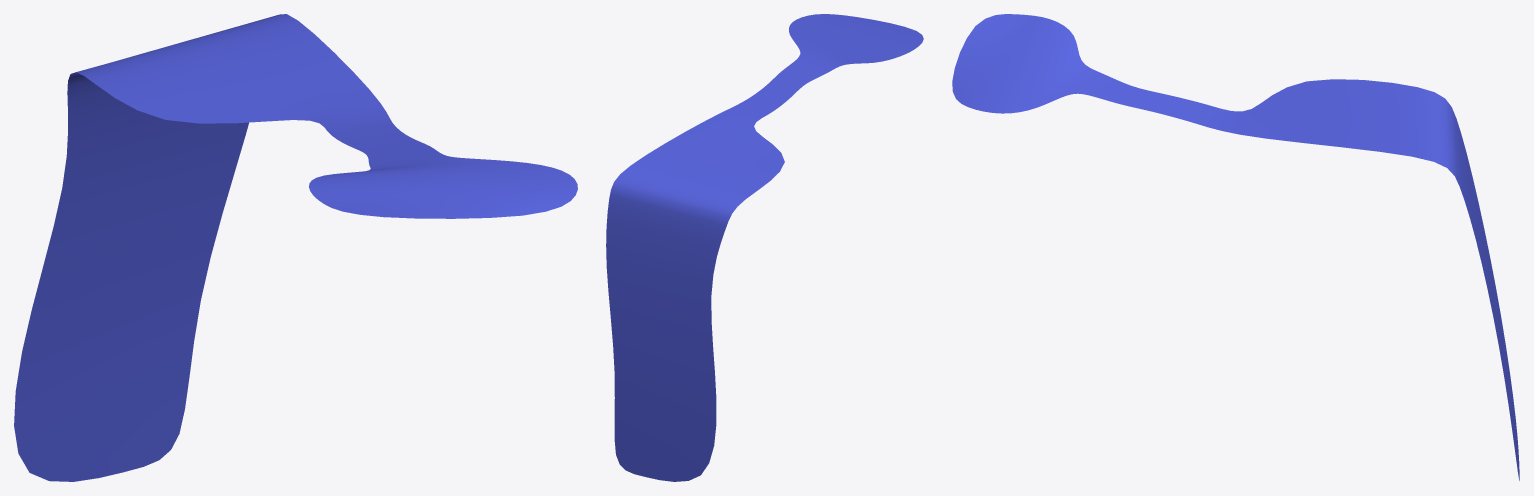
Rendered from SlateMineWaterFall.fbx.
3 renders of one model, left to right at view 1: azimuth 30°, elevation 25°; view 2: azimuth 150°, elevation 25°; view 3: azimuth 270°, elevation 25°, orthographic. The views are drawn at different scales.
Visible parts, largest first — view 1: Plane; view 2: Plane; view 3: Plane.
Part boxes in pixels (x1=…): Plane: x1=14, y1=14, x2=577, y2=481; Plane: x1=606, y1=14, x2=923, y2=481; Plane: x1=952, y1=14, x2=1519, y2=480.
Bounding box in the file's own units: 9474 × 20031 × 25336.
